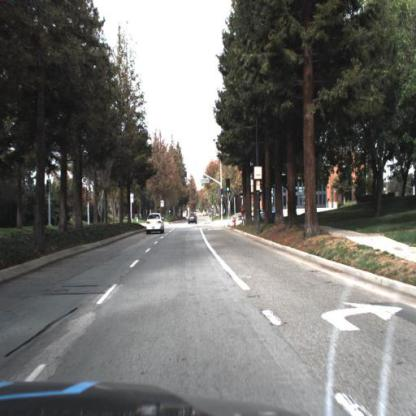car: (144, 212, 166, 238), (187, 212, 199, 228)
pedestrian: (241, 205, 248, 227)
trafficLight-Green: (226, 179, 231, 193), (184, 171, 188, 184)
